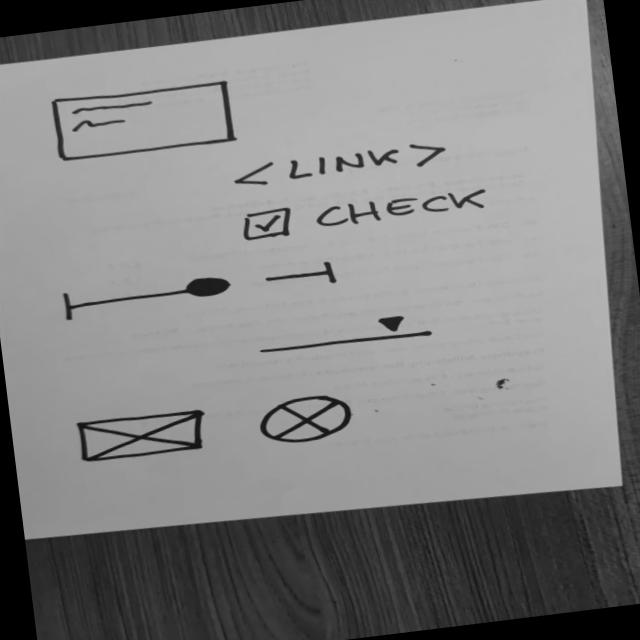checkbox: (234, 180, 490, 244)
image: (71, 404, 214, 467), (254, 389, 358, 448)
link: (225, 134, 452, 193)
select: (253, 308, 436, 360)
slider: (53, 257, 344, 323)
textarea: (46, 76, 242, 164)
